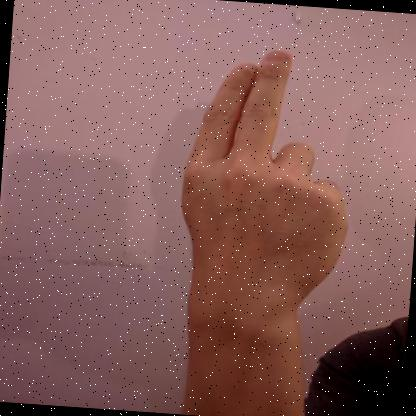U: (182, 51, 348, 304)
